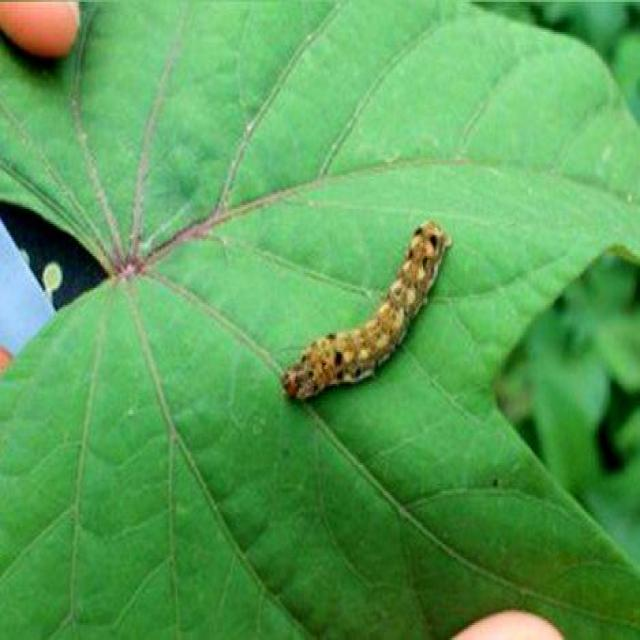Armyworm: (265, 186, 472, 417)
